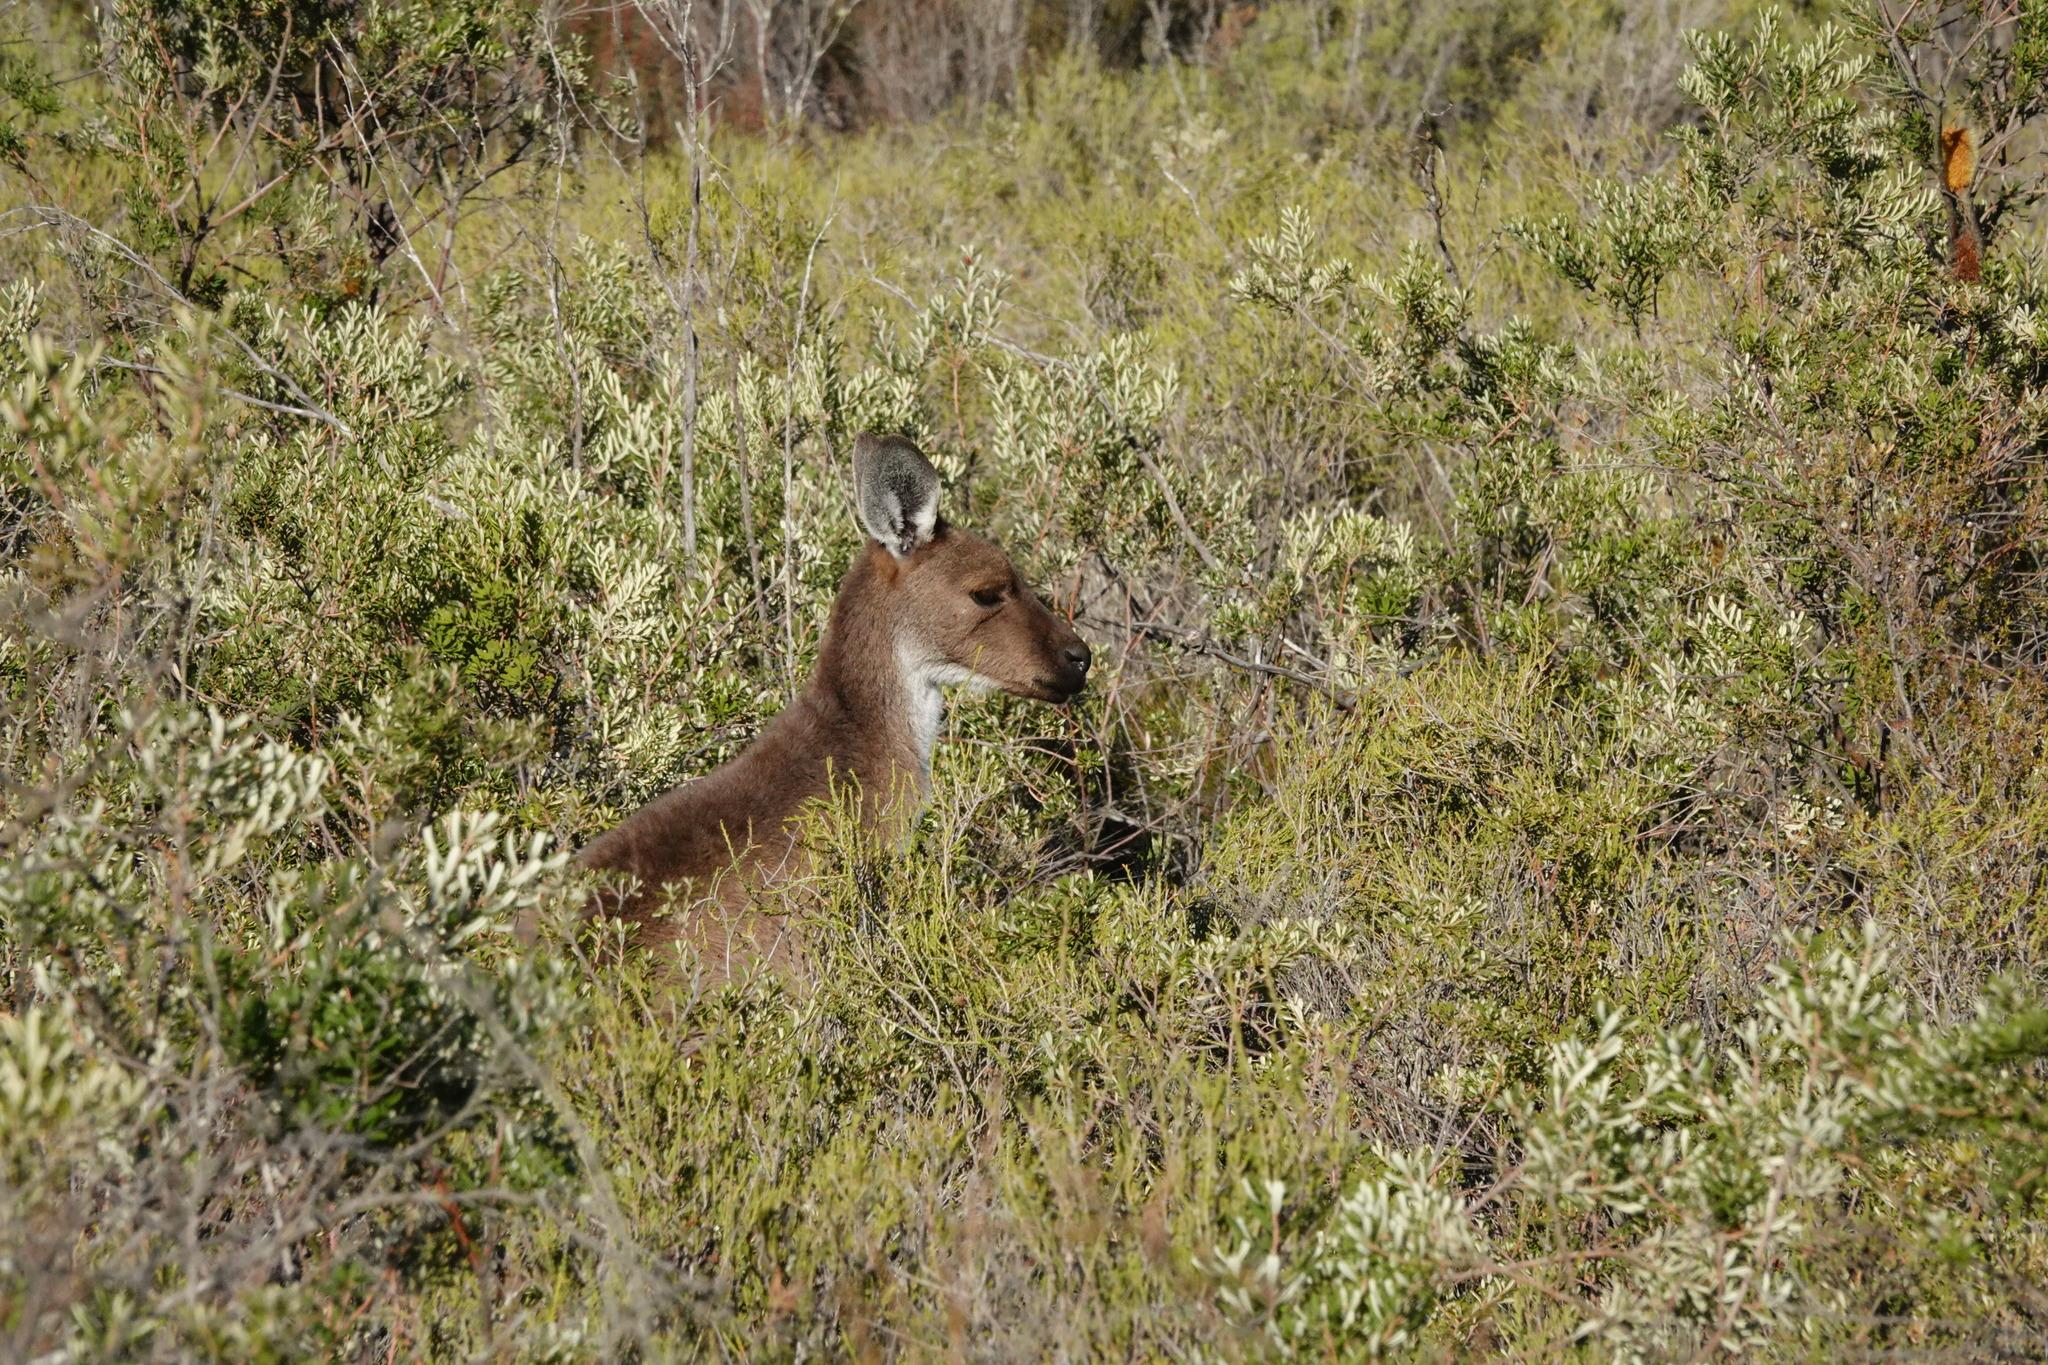Western grey kangaroo: (417, 425, 1102, 1010)
